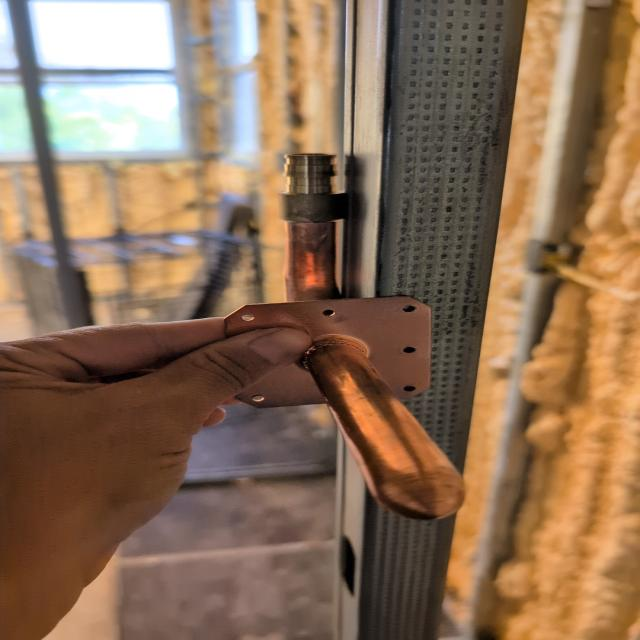wall_flange: (208, 137, 528, 548)
